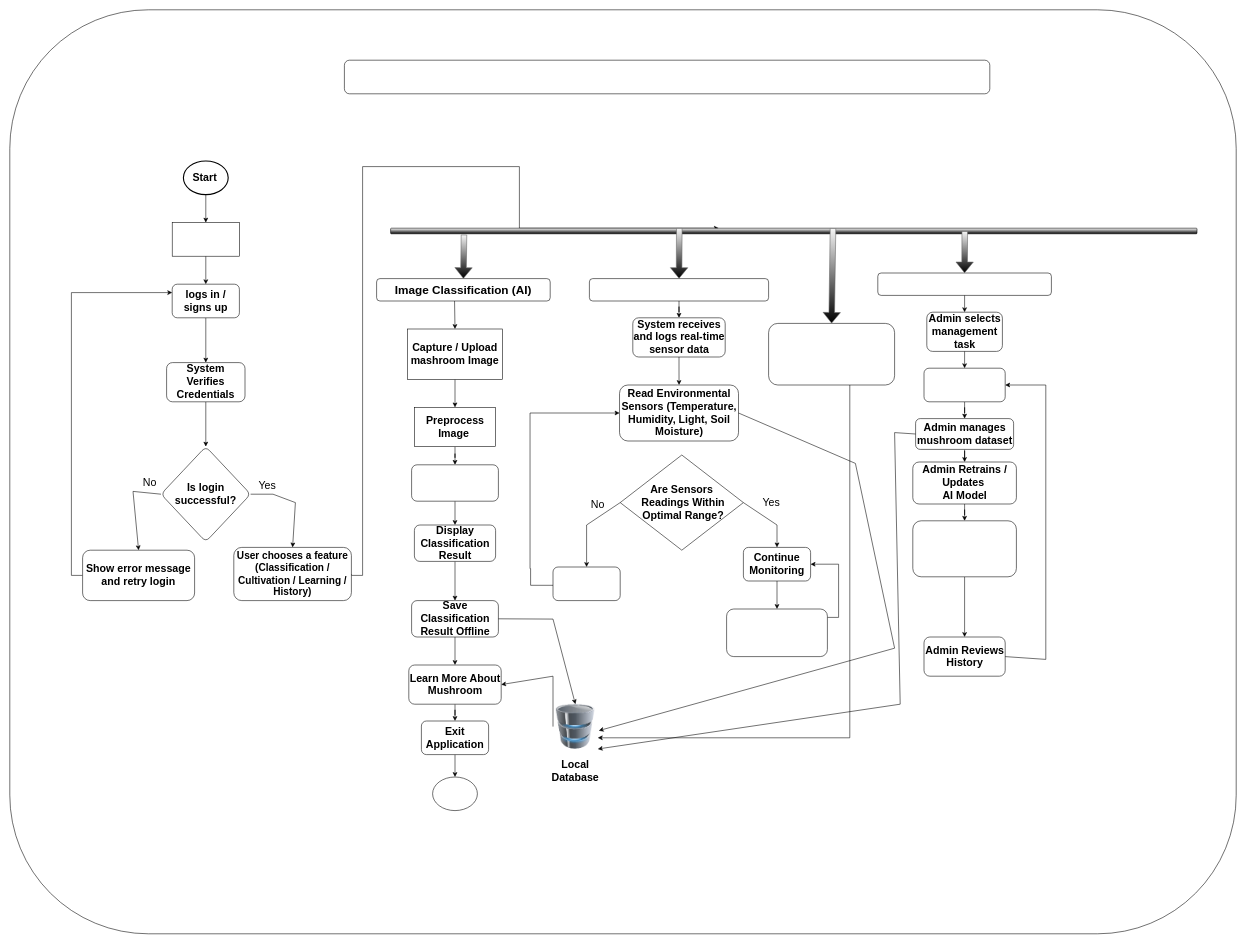
This 1246x944 diagram has some shape labels left out. The shapes that lost their labels are listed below. From the top down, each one's centre as x and y in pixels, then its label:
At [667,77]: "Activity Diagram For Mushroom Classification & IoT Based Cultivation".
At [205,239]: "Open App".
At [679,289]: "IoT Cultivation Monitoring flow".
At [964,283]: "Admin Management Flow".
At [831,354]: "Search name of Mushroom and get information about mushroom".
At [964,385]: "Admin Manage Uer Accounts".
At [454,482]: "Classify Mushroom ( AI Model)".
At [964,548]: "Admin monitors system reports (Model Accuracy, Logs)".
At [586,583]: "Trigger Alert".
At [776,632]: "Show Suggestions For Cultivation Improvments".
At [454,793]: "End".
